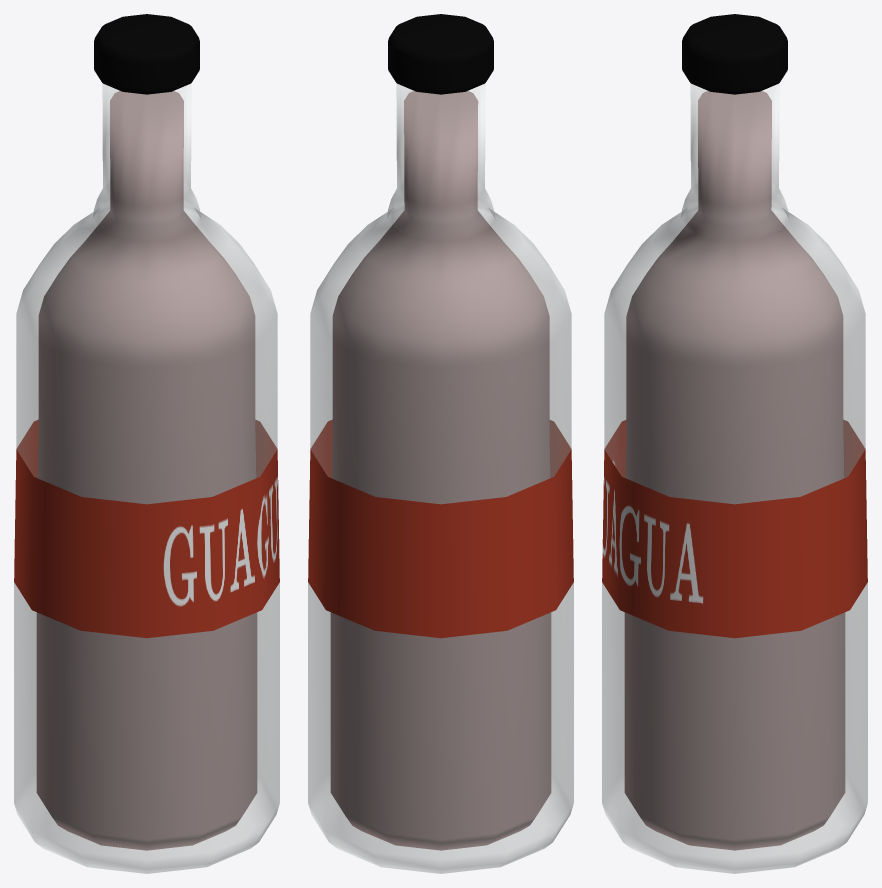
Rendered from BotellaGuagua.fbx.
3 renders of one model, left to right at view 1: azimuth 30°, elevation 25°; view 2: azimuth 150°, elevation 25°; view 3: azimuth 270°, elevation 25°, orthographic.
Parts seen in each view (by area): view 1: BotellaAlcohol, LiquidoAlcohol; view 2: BotellaAlcohol, LiquidoAlcohol; view 3: BotellaAlcohol, LiquidoAlcohol.
Boxes of the visible parts, x1,y1,x2,y2 form: BotellaAlcohol: [14, 14, 279, 873]; LiquidoAlcohol: [36, 91, 257, 850]; BotellaAlcohol: [308, 14, 573, 873]; LiquidoAlcohol: [330, 91, 551, 850]; BotellaAlcohol: [602, 14, 867, 873]; LiquidoAlcohol: [624, 91, 845, 850].
Size of the model in its own units: 10.54 by 34.69 by 10.54.
